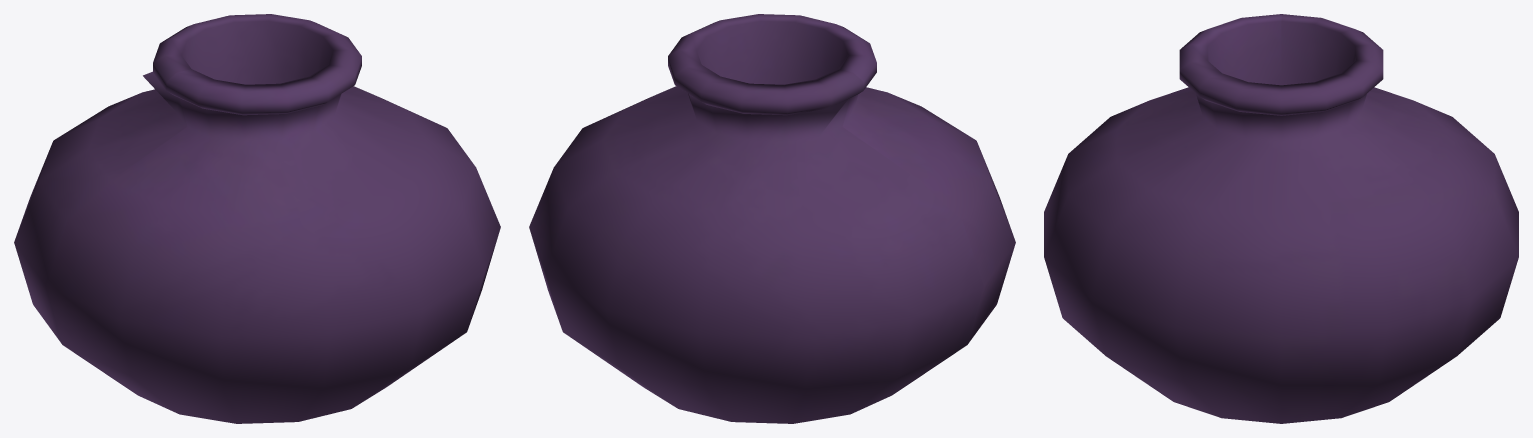
Rendered from pot3.fbx.
3 renders of one model, left to right at view 1: azimuth 30°, elevation 25°; view 2: azimuth 150°, elevation 25°; view 3: azimuth 270°, elevation 25°, orthographic.
Parts seen in each view (by area): view 1: pot2; view 2: pot2; view 3: pot2.
Boxes of the visible parts, <box> form: pot2: <box>14,14,500,423</box>; pot2: <box>529,14,1015,423</box>; pot2: <box>1044,14,1518,423</box>.
Size of the model in its own units: 2.27 by 1.61 by 2.21.
